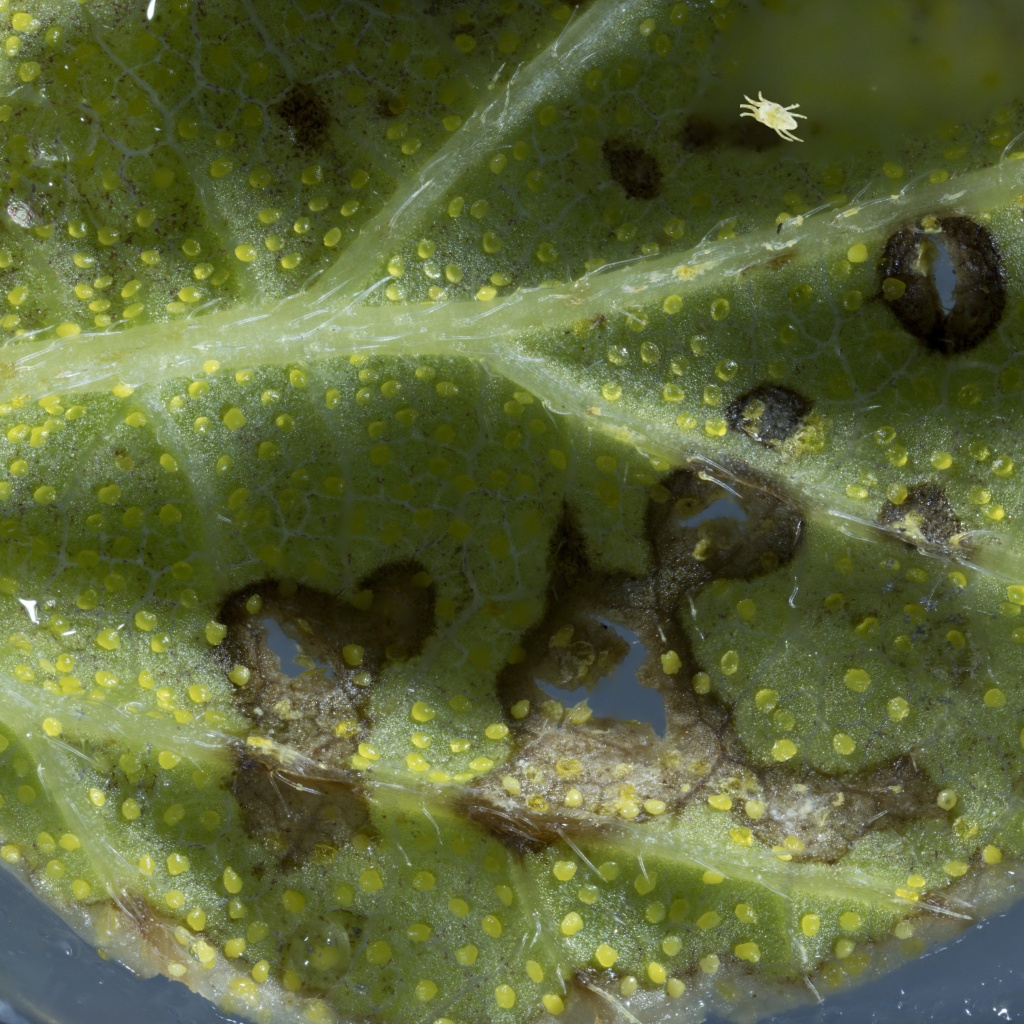Adult_male: (736, 89, 810, 144)
